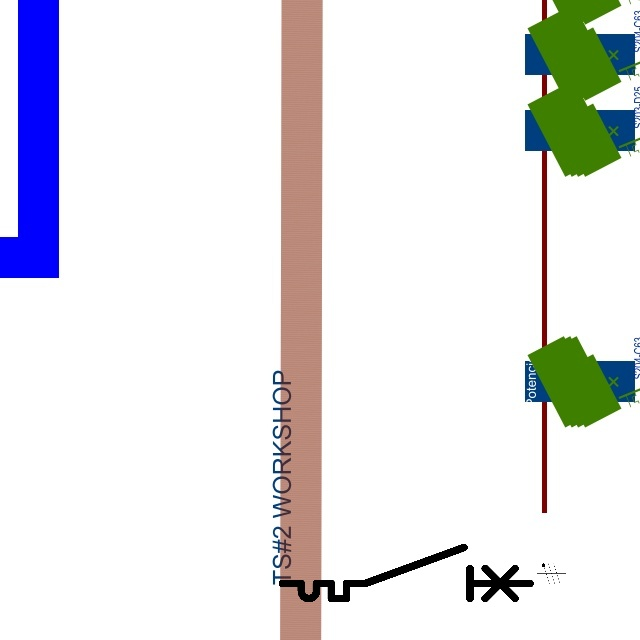interruptor_termomagnetico: (276, 541, 536, 605)
